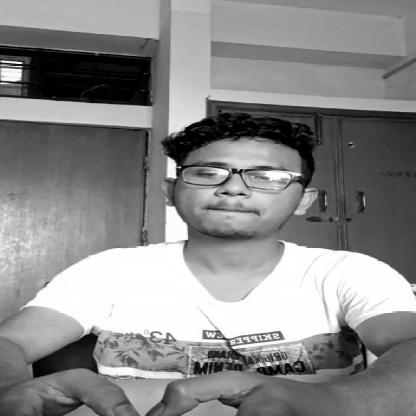Normal: (154, 89, 321, 243)
